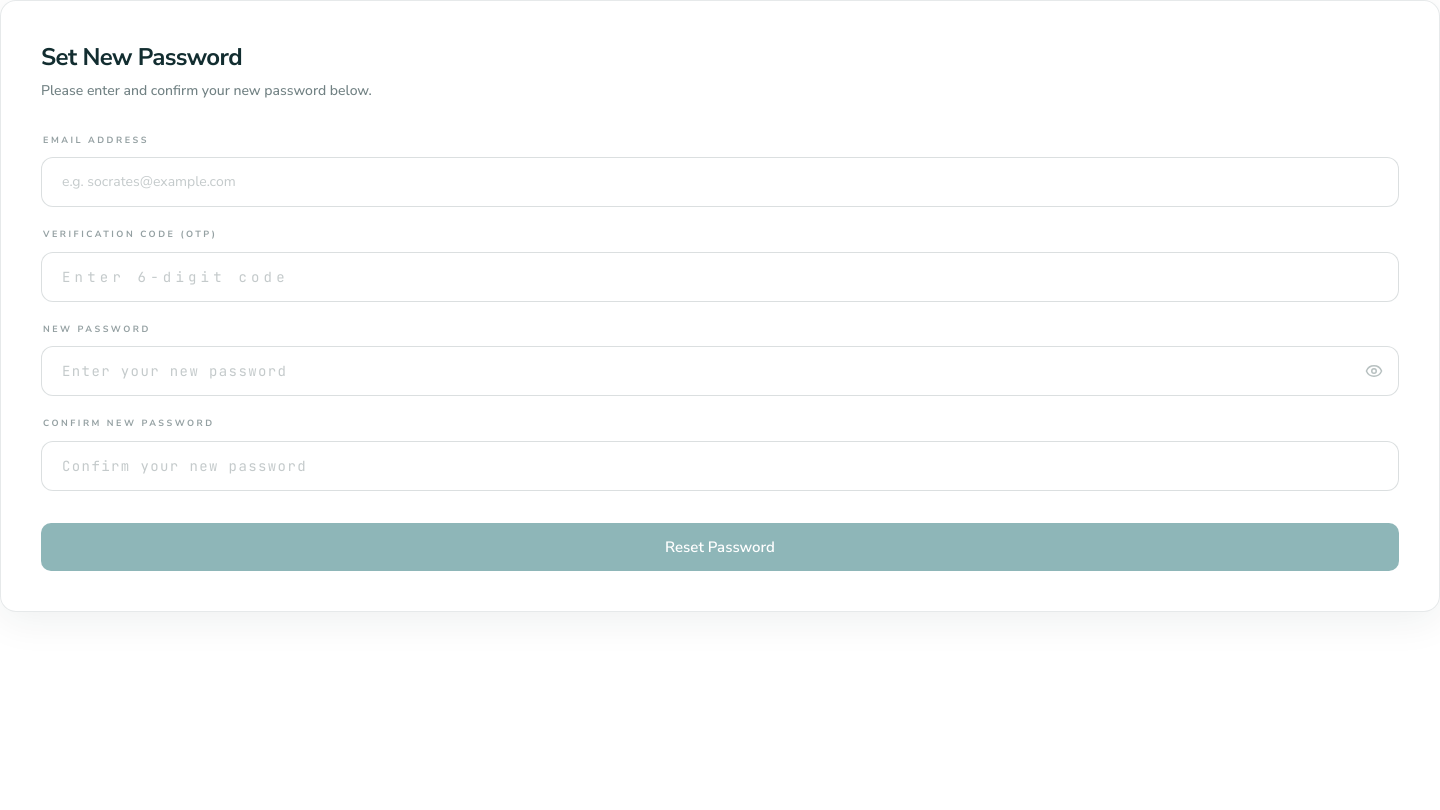
Scenario: ResetPassword › rejects a password shorter than 8 characters
The image size is (1440, 810).
Type "kid@example.com" into the field with placeholder "e.g. socrates@example.com" at (720, 182), box x1=41 y1=157 x2=1399 y2=207
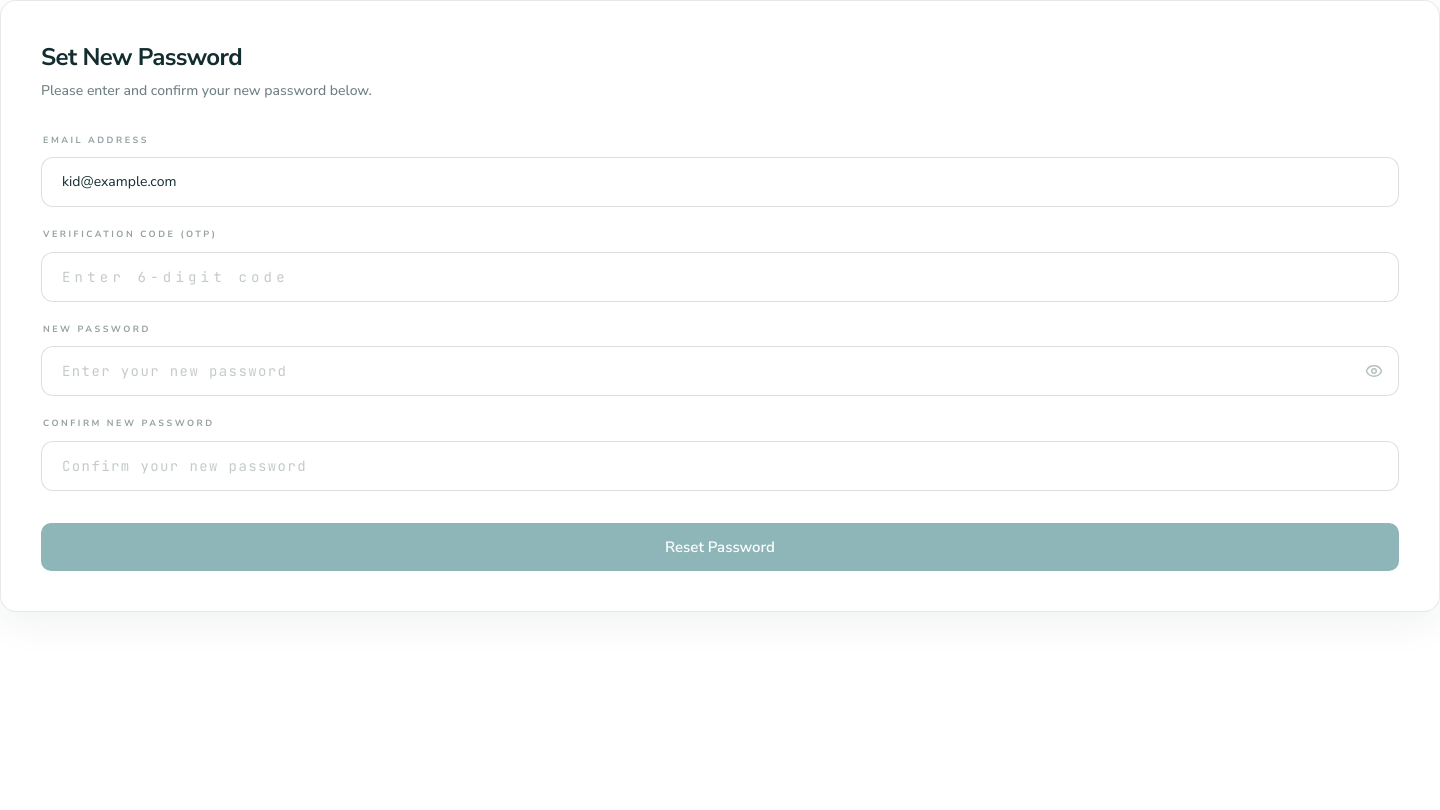
Type "123456" into the field with placeholder "Enter 6-digit code" at (720, 277), box x1=41 y1=252 x2=1399 y2=302
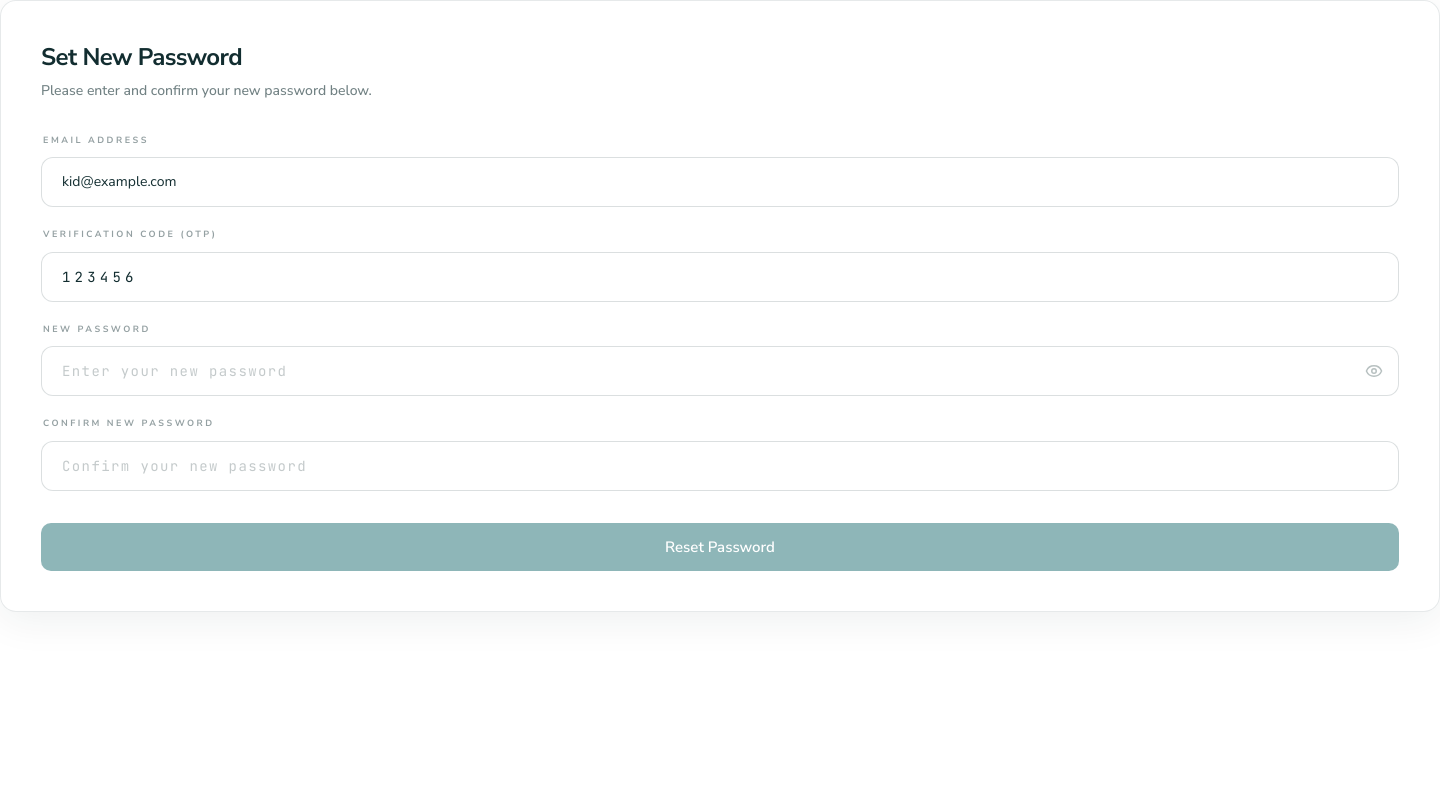
Type "short1" into the password field with placeholder "Enter your new password" at (720, 371), box x1=41 y1=346 x2=1399 y2=396
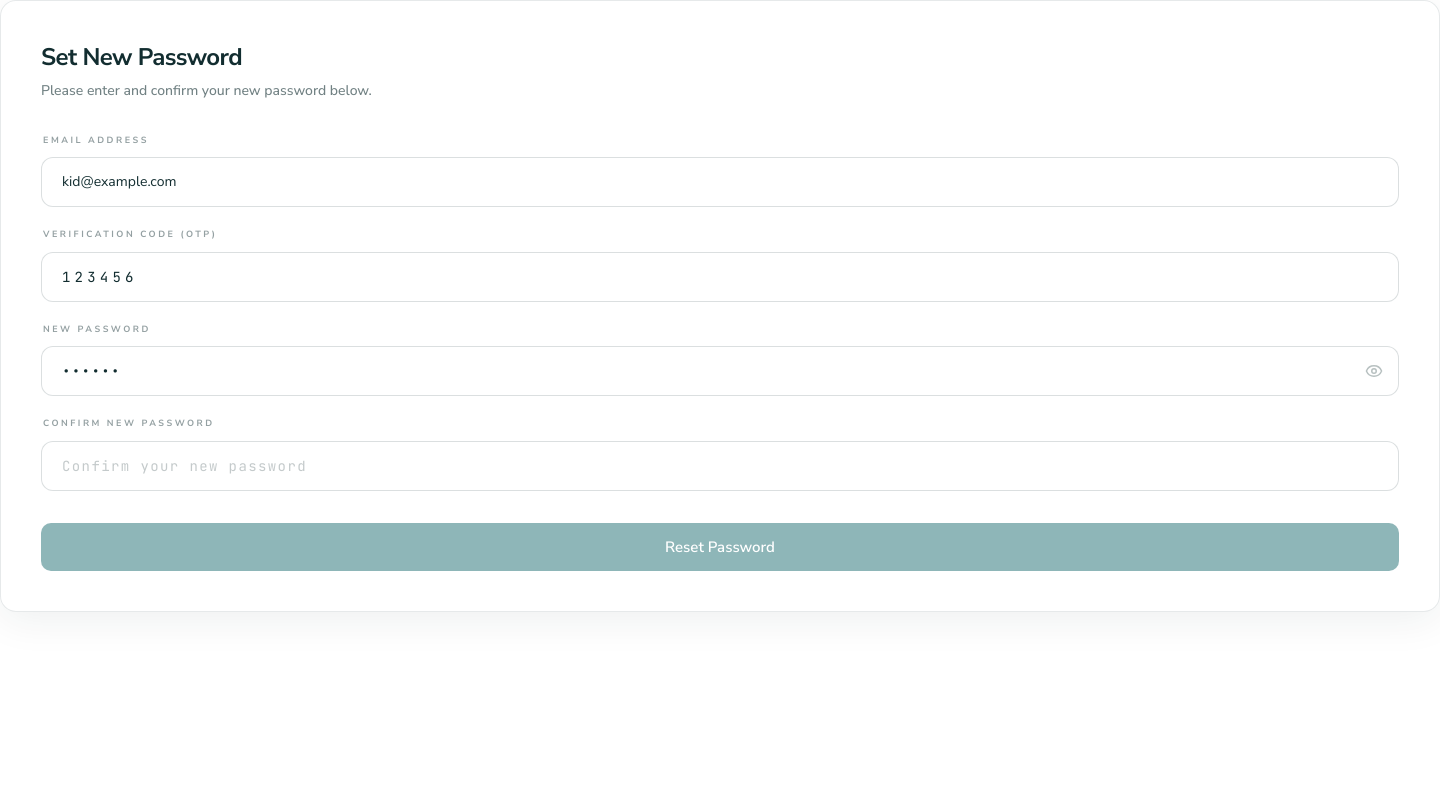
Type "short1" into the password field with placeholder "Confirm your new password" at (720, 466), box x1=41 y1=441 x2=1399 y2=491
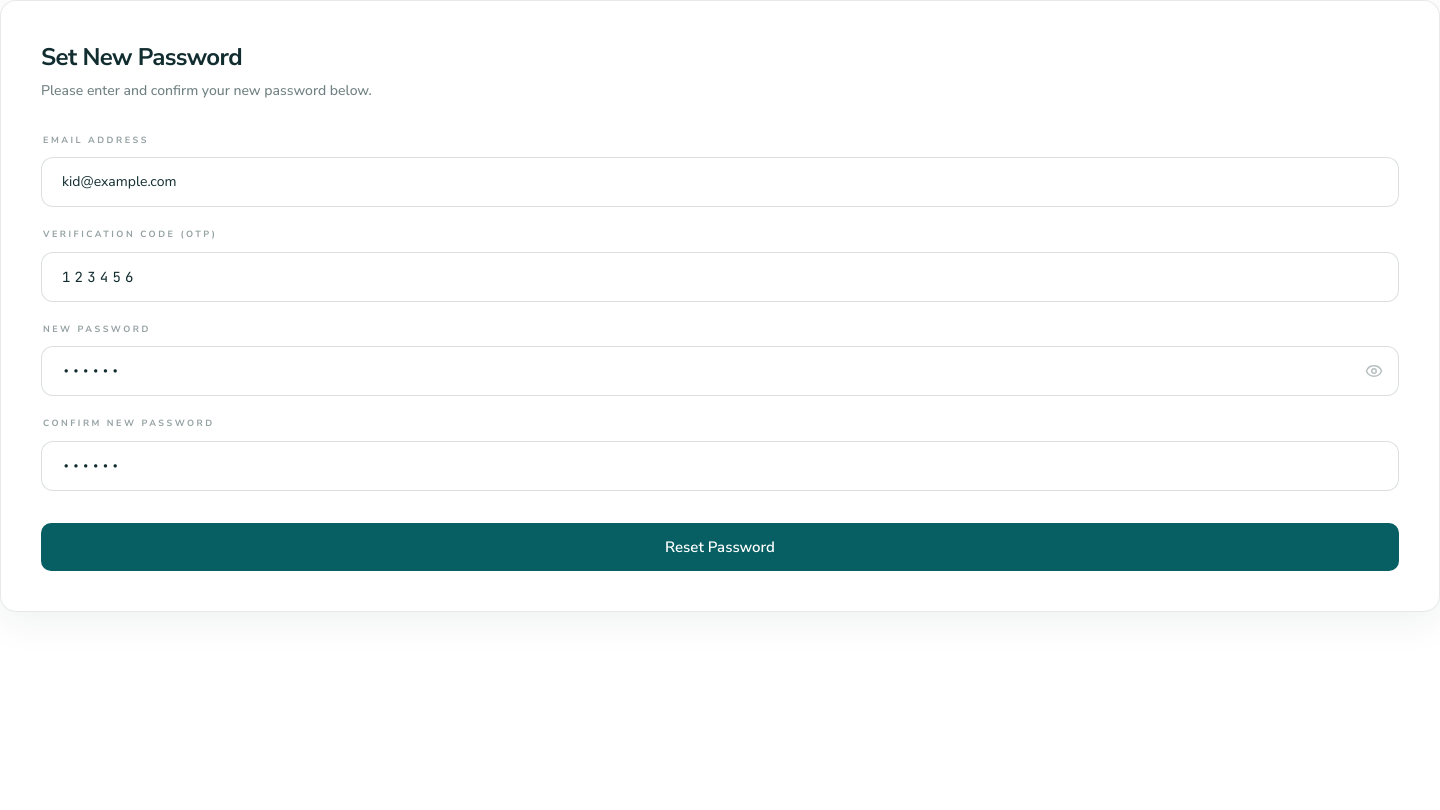
Click the button "Reset Password" at (720, 547), box x1=41 y1=523 x2=1399 y2=571
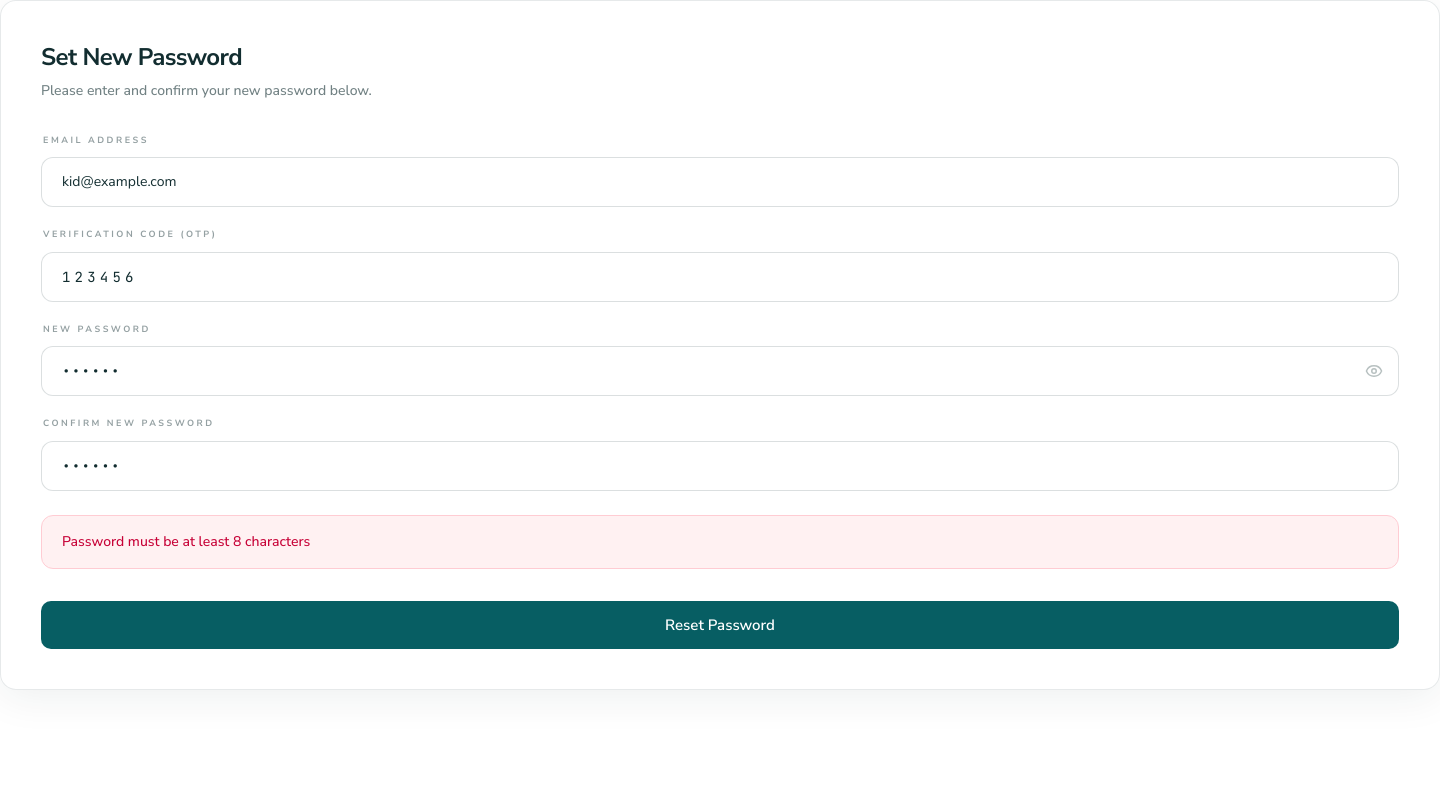
Expected: the text "Password must be at least 8 characters" is shown, x1=41 y1=515 x2=1399 y2=569
